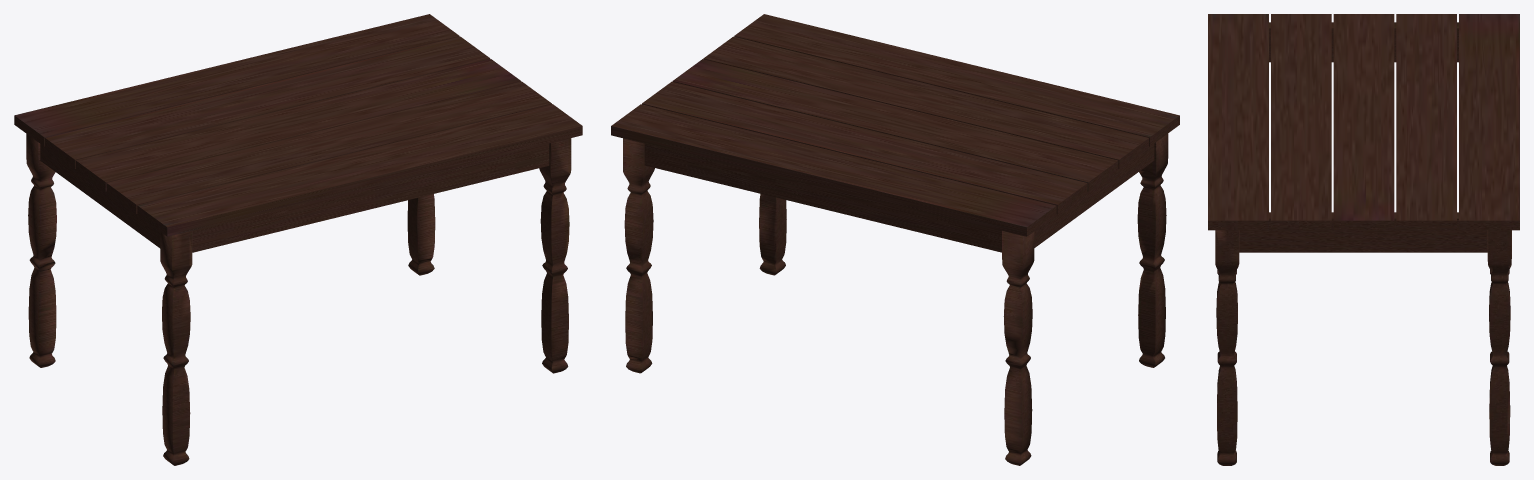
File: rustic_wooden_table_antique_farmhouse_style.glb
3 views of the same model, side by side, from view 1: azimuth 30°, elevation 25°; view 2: azimuth 150°, elevation 25°; view 3: azimuth 270°, elevation 25° (orthographic).
Parts seen in each view (by area): view 1: Object_4; view 2: Object_4; view 3: Object_4.
Boxes of the visible parts, x1=… form: Object_4: x1=14, y1=14, x2=582, y2=465; Object_4: x1=611, y1=14, x2=1179, y2=465; Object_4: x1=1208, y1=14, x2=1519, y2=465.
Size of the model in its own units: 10.49 by 5.98 by 6.69.
Materials: 1 (1 with a texture image).
